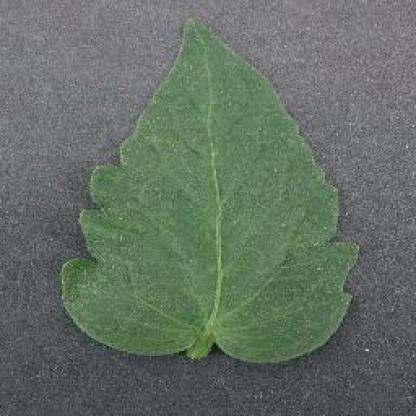good leaf: (69, 14, 366, 376)
